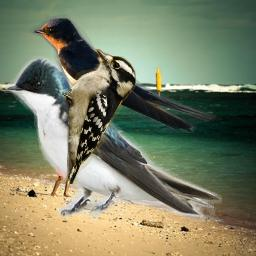Swallow: (4, 55, 222, 222), (28, 12, 218, 133)
Woodpecker: (62, 49, 136, 184)
